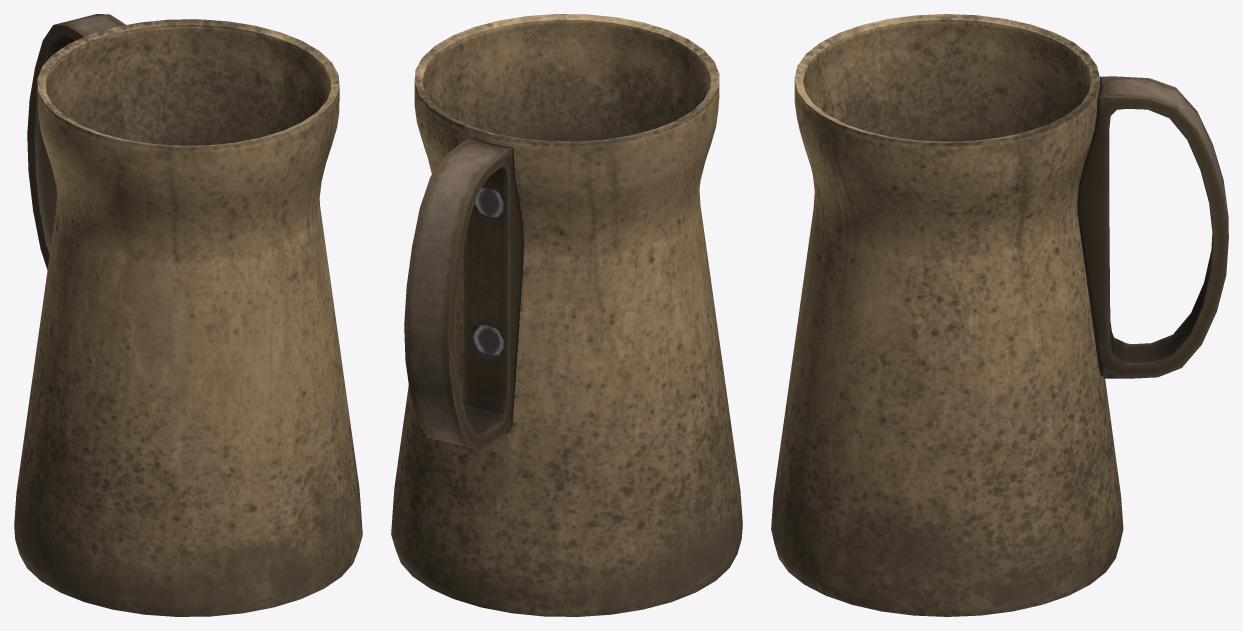
File: Pitcher.fbx
3 renders of one model, left to right at view 1: azimuth 30°, elevation 25°; view 2: azimuth 150°, elevation 25°; view 3: azimuth 270°, elevation 25°, orthographic.
Visible parts, largest first — view 1: Jug_01_low; view 2: Jug_01_low; view 3: Jug_01_low.
Boxes of the visible parts, x1,y1,x2,y2 form: Jug_01_low: (14,14,362,616); Jug_01_low: (391,14,742,616); Jug_01_low: (771,14,1228,616).
Size of the model in its own units: 74.1 by 109 by 96.28.
